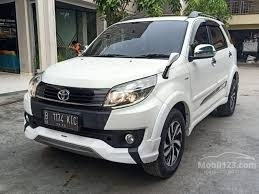plate: (43, 109, 78, 132)
